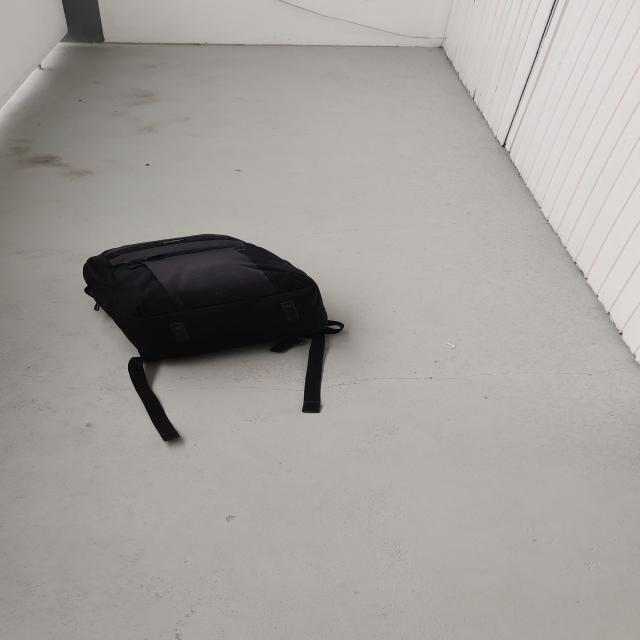backpack: (70, 227, 339, 366)
